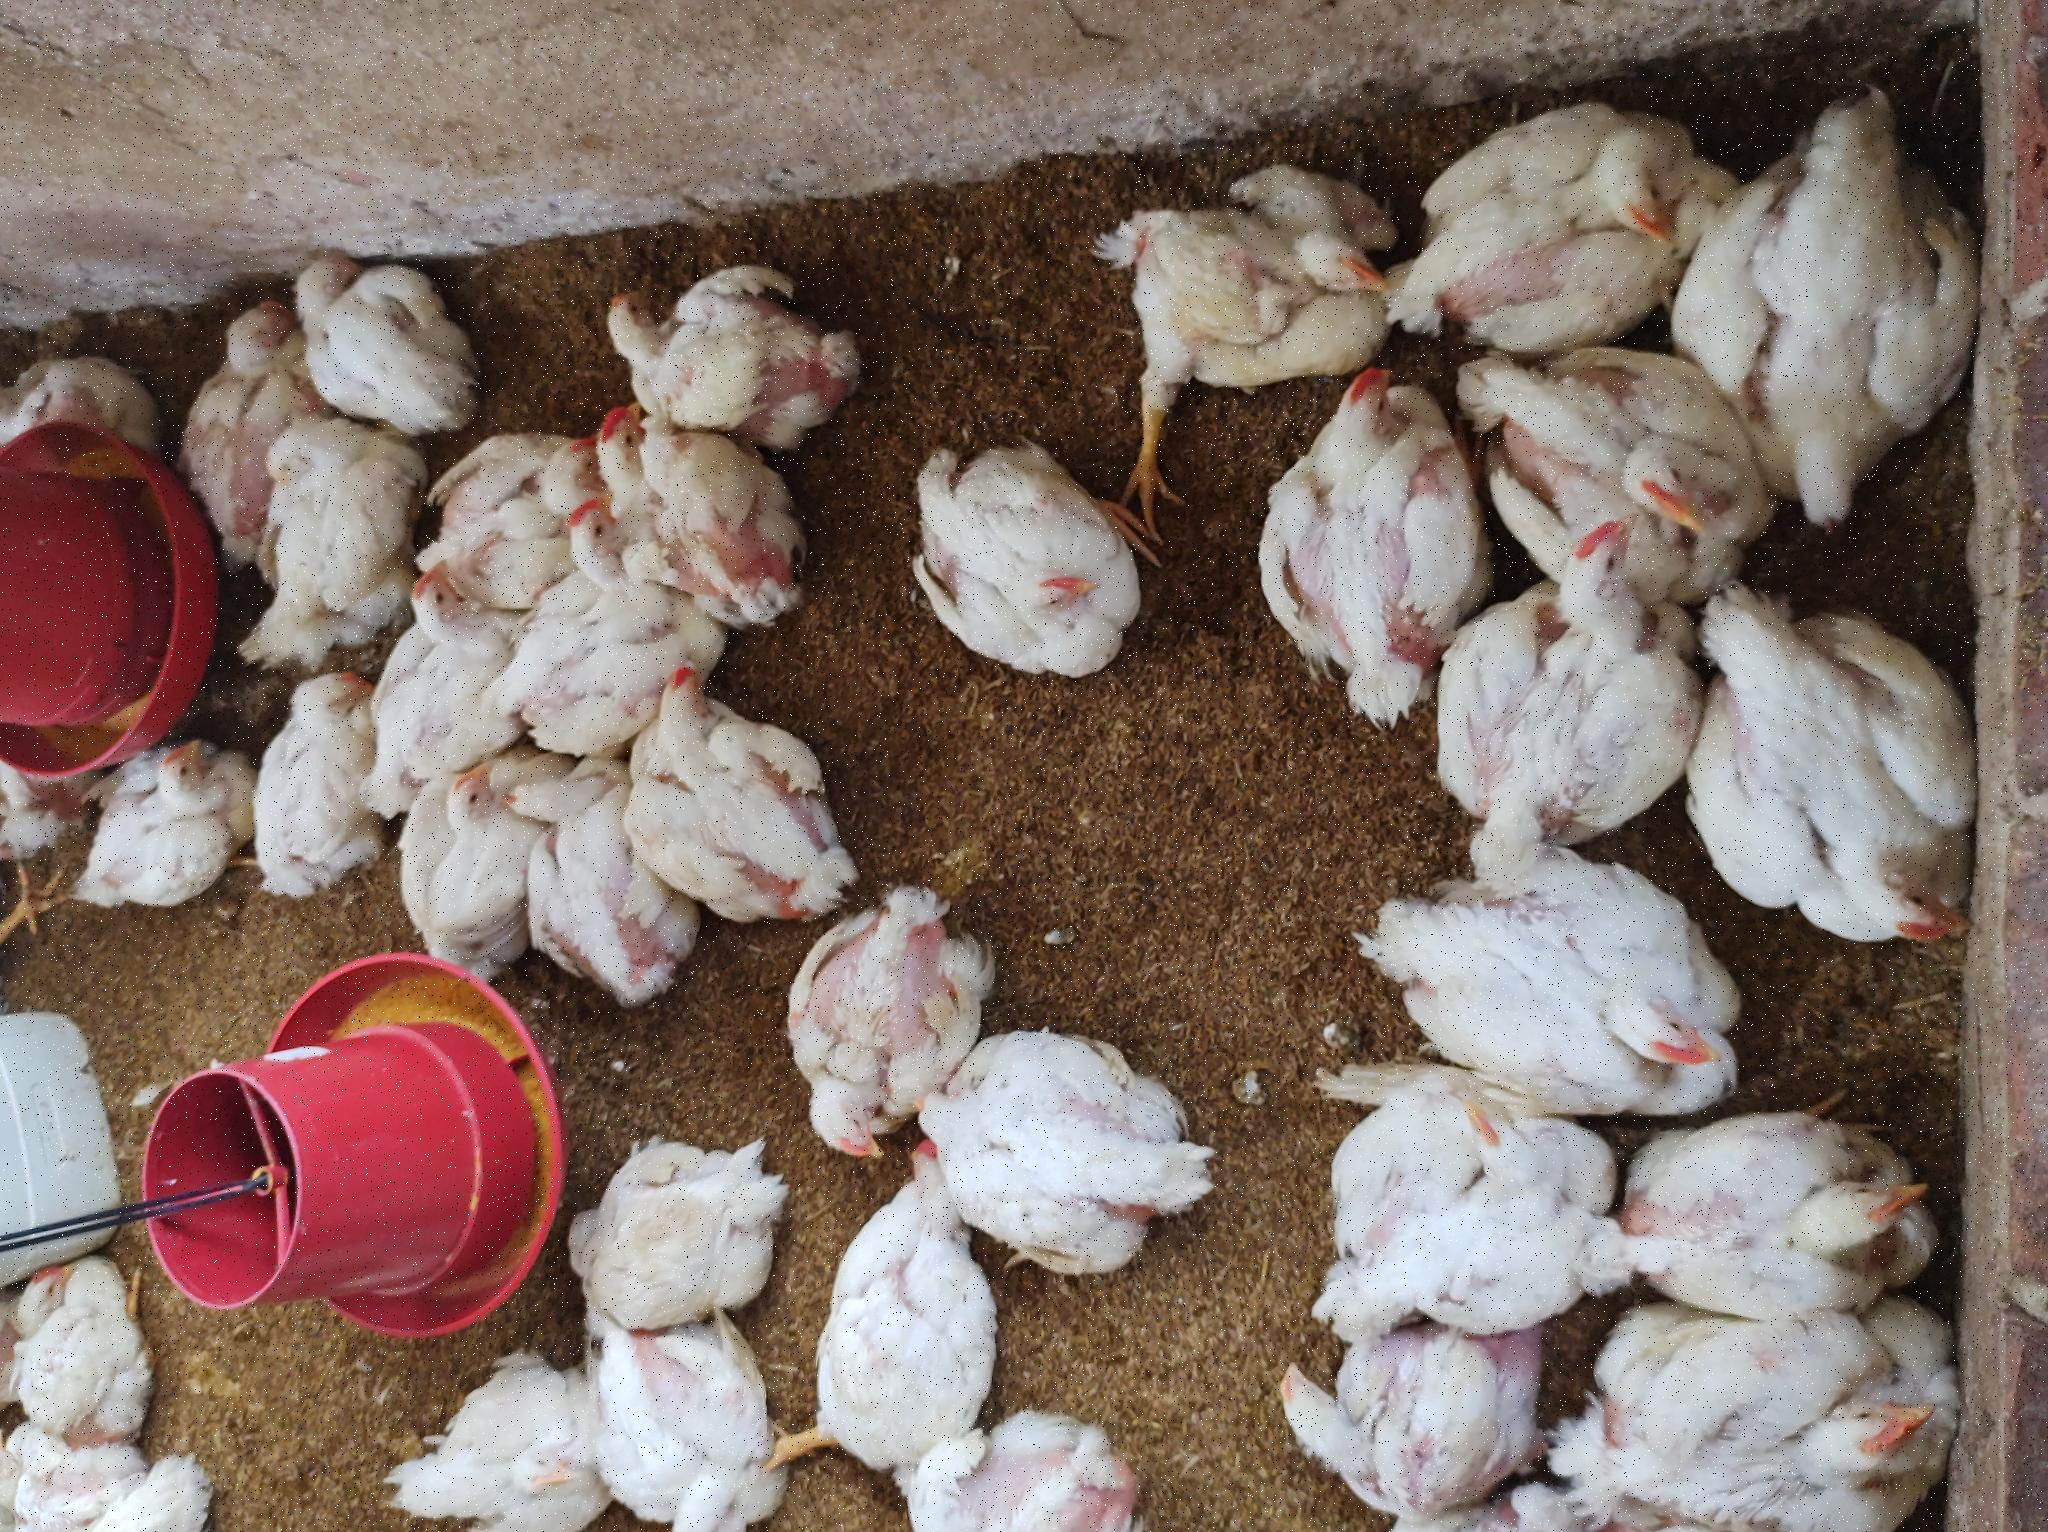Pollos: (824, 1265, 1178, 1474), (68, 780, 391, 999), (272, 940, 524, 1213), (386, 758, 648, 1006), (1170, 1093, 1380, 1400), (841, 912, 1102, 1152), (2, 1260, 211, 1532), (624, 628, 861, 863), (199, 1303, 434, 1532), (841, 209, 1118, 401), (428, 1355, 713, 1532), (212, 554, 409, 784), (6, 583, 225, 784), (899, 607, 1118, 797), (544, 509, 761, 698), (5, 378, 183, 602), (1121, 608, 1273, 866), (1110, 277, 1306, 475), (687, 1419, 1002, 1532), (603, 64, 800, 240), (632, 235, 874, 377), (2, 904, 138, 1151), (988, 164, 1239, 294), (793, 531, 1060, 652), (95, 14, 310, 159), (1202, 1392, 1414, 1532), (1031, 3, 1203, 159), (788, 357, 965, 505), (565, 406, 772, 521), (1017, 431, 1134, 602), (949, 1463, 1179, 1532)
